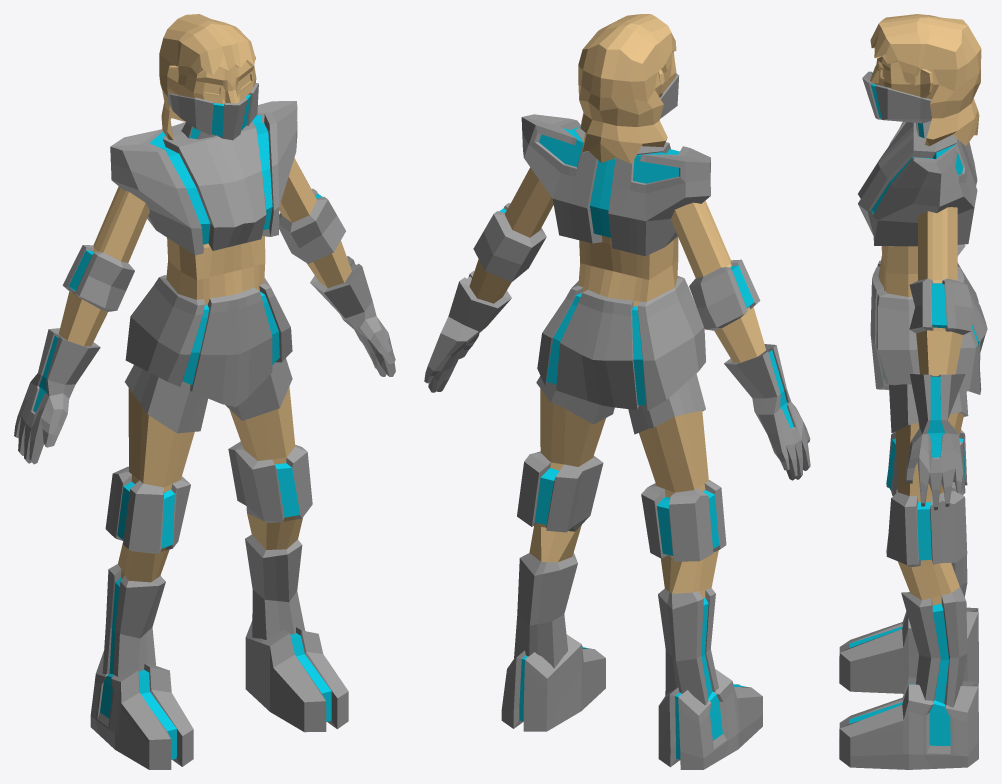
The model's file is AlishToTexture.fbx.
3 renders of one model, left to right at view 1: azimuth 30°, elevation 25°; view 2: azimuth 150°, elevation 25°; view 3: azimuth 270°, elevation 25°, orthographic.
Parts seen in each view (by area): view 1: Cube.003; view 2: Cube.003; view 3: Cube.003.
Boxes of the visible parts, <box> form: Cube.003: <box>14,14,395,769</box>; Cube.003: <box>424,14,810,769</box>; Cube.003: <box>839,14,987,769</box>.
Bounding box in the file's own units: 162 × 296 × 56.8.
